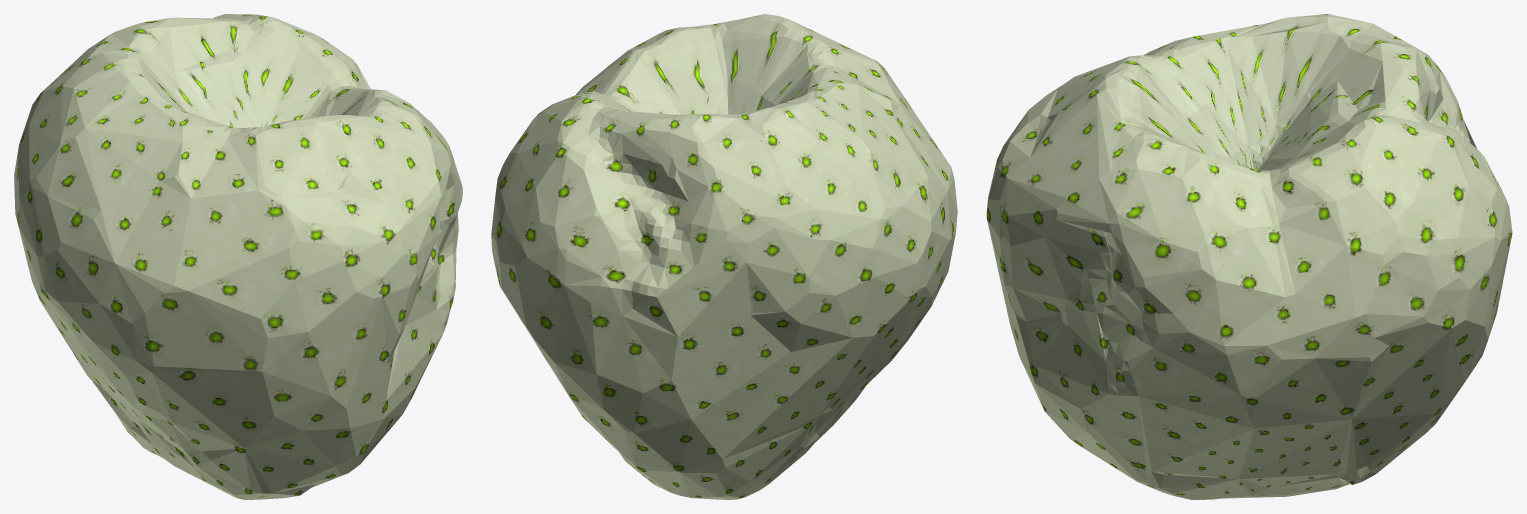
The picture shows the model from 3 angles, left to right: view 1: azimuth 30°, elevation 25°; view 2: azimuth 150°, elevation 25°; view 3: azimuth 270°, elevation 25°; orthographic projection. The views are drawn at different scales.
Parts seen in each view (by area): view 1: _003_Meshed; view 2: _003_Meshed; view 3: _003_Meshed.
Part boxes in pixels (left/top/right/bottom): _003_Meshed: left=14, top=14, right=462, bottom=499; _003_Meshed: left=491, top=14, right=957, bottom=499; _003_Meshed: left=986, top=14, right=1512, bottom=499.
Bounding box in the file's own units: 0.0971 × 0.1082 × 0.0983.
1 material, 1 textured.
